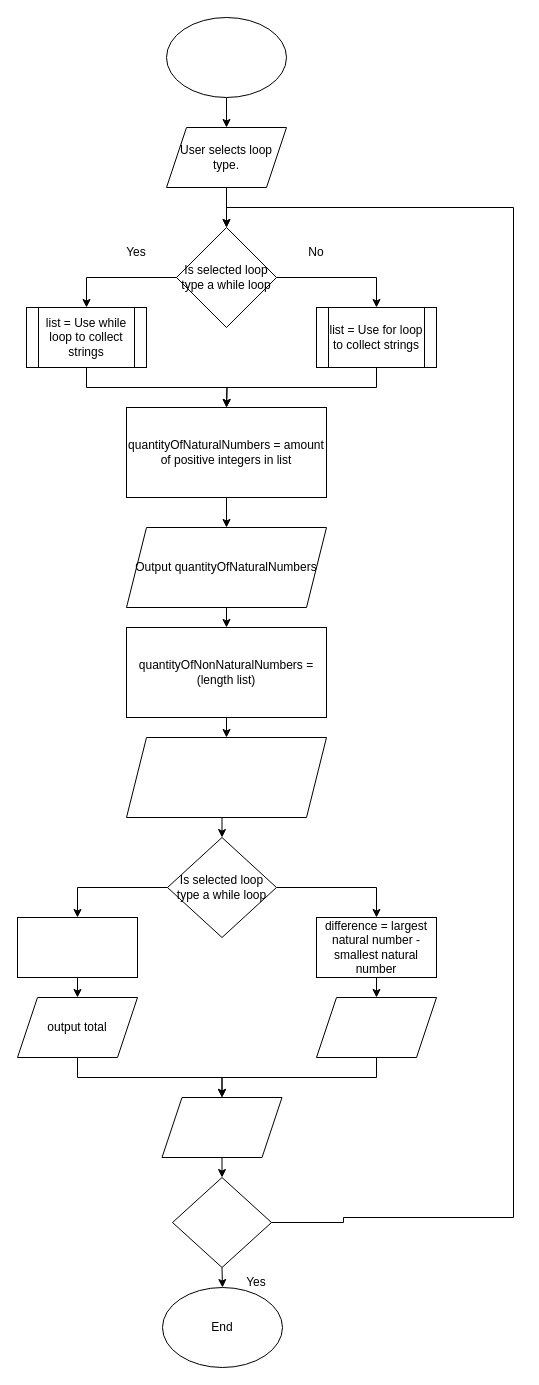
Image size: 539x1385. Some labels were removed from this diagram. The shapes that lost their labels are listed below. From the top down, each one's box as (x1, y1, x2, y2) in pixels, then its label:
(166, 16, 286, 98): Start
(126, 736, 326, 818): Output quantityOfNonNaturalNumbers
(16, 916, 138, 978): total = total of all natural numbers
(316, 996, 436, 1058): output difference
(161, 1096, 282, 1158): User selects loop type or stop.
(172, 1176, 272, 1268): did user select stop
